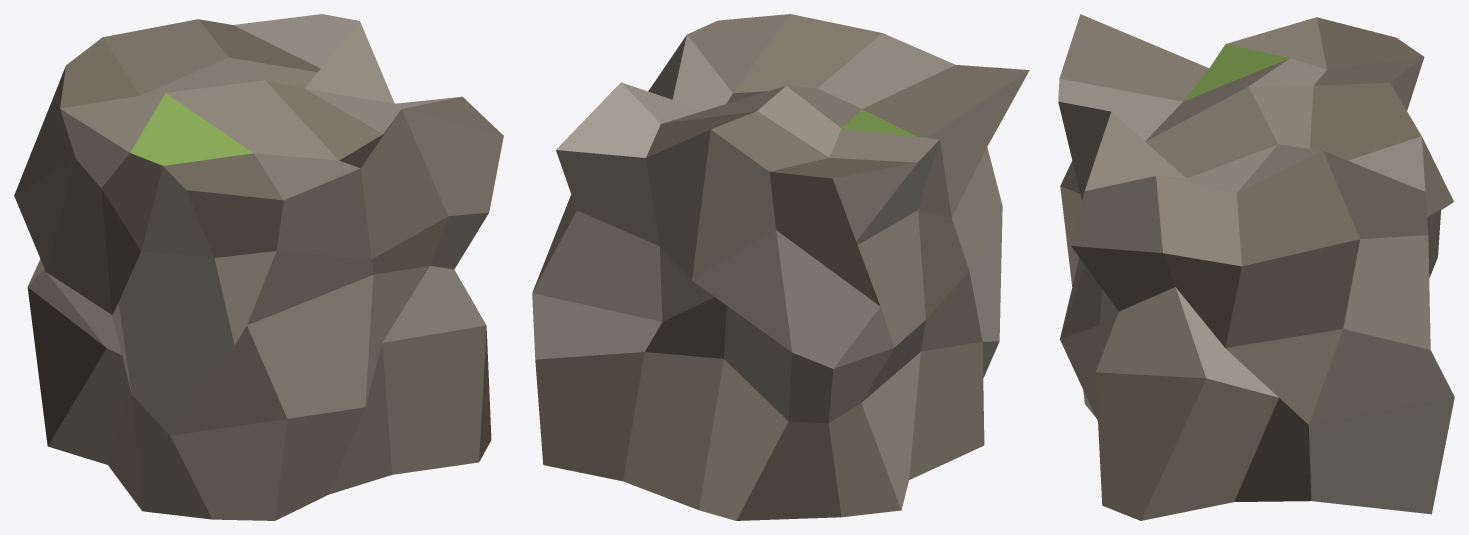
File: Granite_d.fbx
3 renders of one model, left to right at view 1: azimuth 30°, elevation 25°; view 2: azimuth 150°, elevation 25°; view 3: azimuth 270°, elevation 25°, orthographic. The views are drawn at different scales.
Visible parts, largest first — view 1: Granite_d; view 2: Granite_d; view 3: Granite_d.
Boxes of the visible parts, left/top/right/bottom form: Granite_d: left=14, top=14, right=503, bottom=520; Granite_d: left=532, top=14, right=1029, bottom=520; Granite_d: left=1058, top=14, right=1454, bottom=520.
Size of what is drawn, in the model's own units: 1 by 1 by 1.
